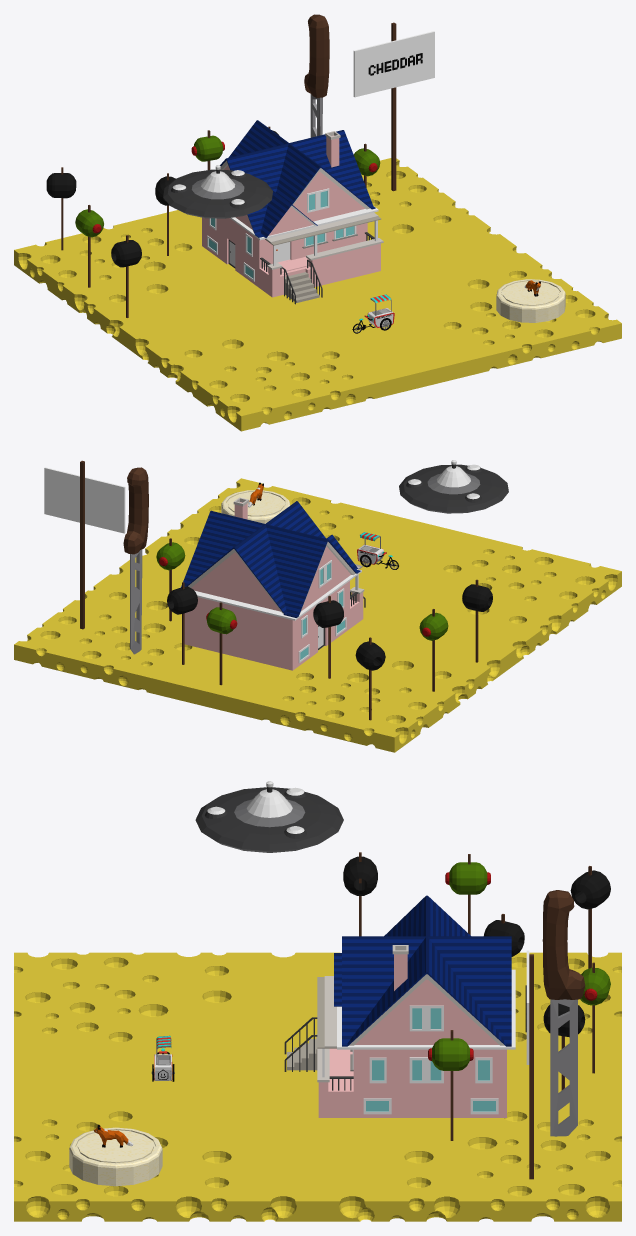
3 views of the same model, one above another, from view 1: azimuth 30°, elevation 25°; view 2: azimuth 150°, elevation 25°; view 3: azimuth 270°, elevation 25° (orthographic). The views are drawn at different scales.
Parts seen in each view (by area): view 1: Cube.022, Cube.313, Cube.023, OBJRANDOM_UFO, Cylinder.016, Cube.024, Sphere.017, Sphere.016, Sphere.018, VEHICLES_SNOWBAL_BIKE, Sphere.022, Sphere.019; view 2: Cube.022, Cube.313, Cube.023, OBJRANDOM_UFO, Cube.024, Cylinder.016, Sphere.017, Sphere.022, Sphere.020, Sphere.021, Sphere.016, Sphere.018 (+2 smaller); view 3: Cube.022, Cube.313, OBJRANDOM_UFO, Cube.024, Cylinder.016, Sphere.019, Cube.023, Sphere.016, Sphere.018, Sphere.017, Sphere.022, VEHICLES_SNOWBAL_BIKE (+2 smaller).
Boxes of the visible parts, x1=… form: Cube.022: x1=14, y1=158, x2=621, y2=431; Cube.313: x1=202, y1=120, x2=383, y2=304; Cube.023: x1=353, y1=22, x2=434, y2=191; OBJRANDOM_UFO: x1=163, y1=165, x2=272, y2=218; Cylinder.016: x1=496, y1=279, x2=565, y2=322; Cube.024: x1=304, y1=14, x2=329, y2=137; Sphere.017: x1=111, y1=235, x2=141, y2=317; Sphere.016: x1=46, y1=167, x2=76, y2=250; Sphere.018: x1=75, y1=205, x2=103, y2=287; VEHICLES_SNOWBAL_BIKE: x1=352, y1=294, x2=394, y2=333; Sphere.022: x1=191, y1=130, x2=224, y2=169; Sphere.019: x1=353, y1=143, x2=380, y2=187; Cube.022: x1=14, y1=478, x2=621, y2=752; Cube.313: x1=180, y1=497, x2=365, y2=670; Cube.023: x1=44, y1=460, x2=125, y2=629; OBJRANDOM_UFO: x1=399, y1=460, x2=508, y2=513; Cube.024: x1=123, y1=467, x2=148, y2=654; Cylinder.016: x1=221, y1=490, x2=290, y2=523; Sphere.017: x1=462, y1=579, x2=492, y2=662; Sphere.022: x1=206, y1=602, x2=237, y2=685; Sphere.020: x1=313, y1=595, x2=343, y2=678; Sphere.021: x1=167, y1=582, x2=197, y2=664; Sphere.016: x1=355, y1=637, x2=385, y2=720; Sphere.018: x1=419, y1=609, x2=448, y2=691; Cube.022: x1=14, y1=952, x2=621, y2=1221; Cube.313: x1=284, y1=895, x2=515, y2=1117; OBJRANDOM_UFO: x1=195, y1=781, x2=343, y2=852; Cube.024: x1=542, y1=890, x2=585, y2=1136; Cylinder.016: x1=69, y1=1127, x2=162, y2=1186; Sphere.019: x1=428, y1=1030, x2=473, y2=1140; Cube.023: x1=525, y1=950, x2=533, y2=1179; Sphere.016: x1=570, y1=866, x2=610, y2=968; Sphere.018: x1=445, y1=854, x2=490, y2=934; Sphere.017: x1=343, y1=852, x2=377, y2=936; Sphere.022: x1=580, y1=962, x2=610, y2=1073; VEHICLES_SNOWBAL_BIKE: x1=151, y1=1035, x2=174, y2=1081.
Size of the model in its own units: 3917 by 2159 by 4000.
Materials: 36 (3 with a texture image).
